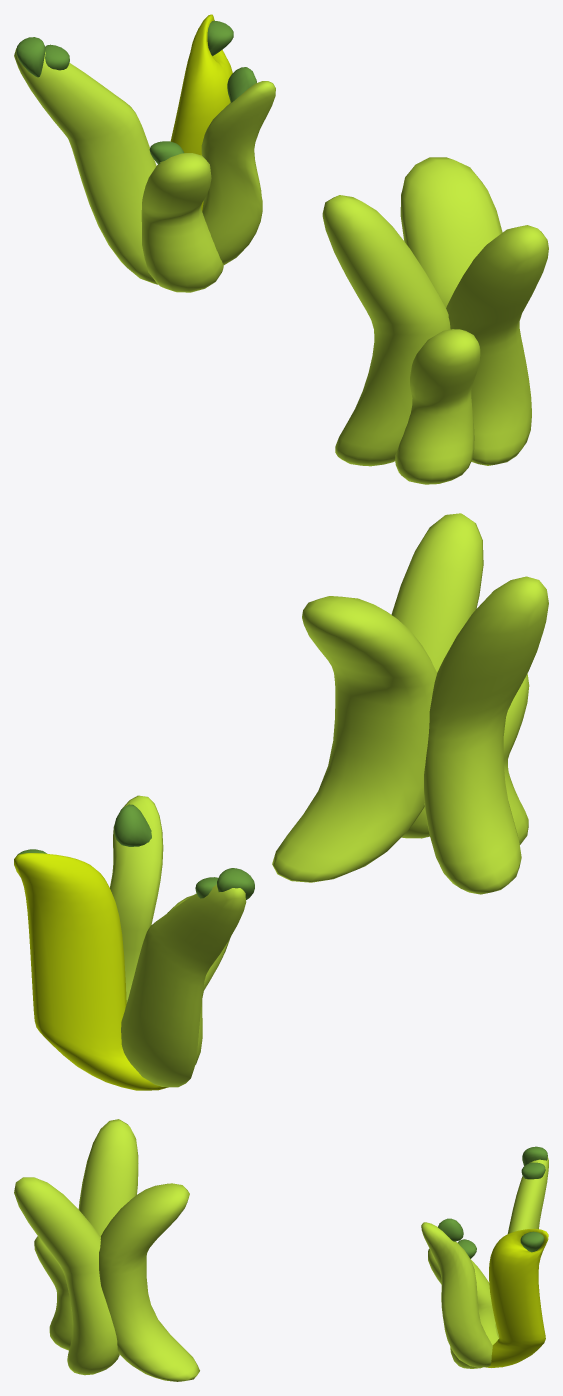
The model's file is Plant 1.fbx.
3 renders of one model, top to bottom at view 1: azimuth 30°, elevation 25°; view 2: azimuth 150°, elevation 25°; view 3: azimuth 270°, elevation 25°, orthographic. The views are drawn at different scales.
Parts seen in each view (by area): view 1: Cube.002, Cube.001, Cube.005, Cube.003, Cube, Cube.004, Cube.006, Cube.007; view 2: Cube, Cube.002, Cube.007, Cube.005, Cube.001, Cube.006, Cube.003; view 3: Cube, Cube.001, Cube.007, Cube.006, Cube.002, Cube.003, Cube.005, Cube.004.
Part boxes in pixels (bbox=[...]): Cube.002: bbox=[322, 195, 450, 466]; Cube.001: bbox=[446, 225, 548, 465]; Cube.005: bbox=[14, 48, 157, 284]; Cube.003: bbox=[395, 329, 480, 484]; Cube: bbox=[400, 157, 502, 307]; Cube.004: bbox=[141, 153, 223, 292]; Cube.006: bbox=[201, 81, 275, 264]; Cube.007: bbox=[16, 14, 256, 210]; Cube: bbox=[272, 596, 436, 882]; Cube.002: bbox=[424, 576, 548, 894]; Cube.007: bbox=[14, 804, 254, 1090]; Cube.005: bbox=[121, 884, 246, 1087]; Cube.001: bbox=[391, 513, 483, 838]; Cube.006: bbox=[110, 795, 163, 1003]; Cube.003: bbox=[503, 673, 529, 844]; Cube: bbox=[99, 1183, 199, 1381]; Cube.001: bbox=[14, 1177, 119, 1375]; Cube.007: bbox=[438, 1146, 548, 1367]; Cube.006: bbox=[421, 1222, 492, 1367]; Cube.002: bbox=[78, 1119, 138, 1236]; Cube.003: bbox=[34, 1236, 72, 1350]; Cube.005: bbox=[495, 1156, 548, 1338]; Cube.004: bbox=[428, 1249, 498, 1368].
Bounding box in the file's own units: 232 × 286 × 653.
